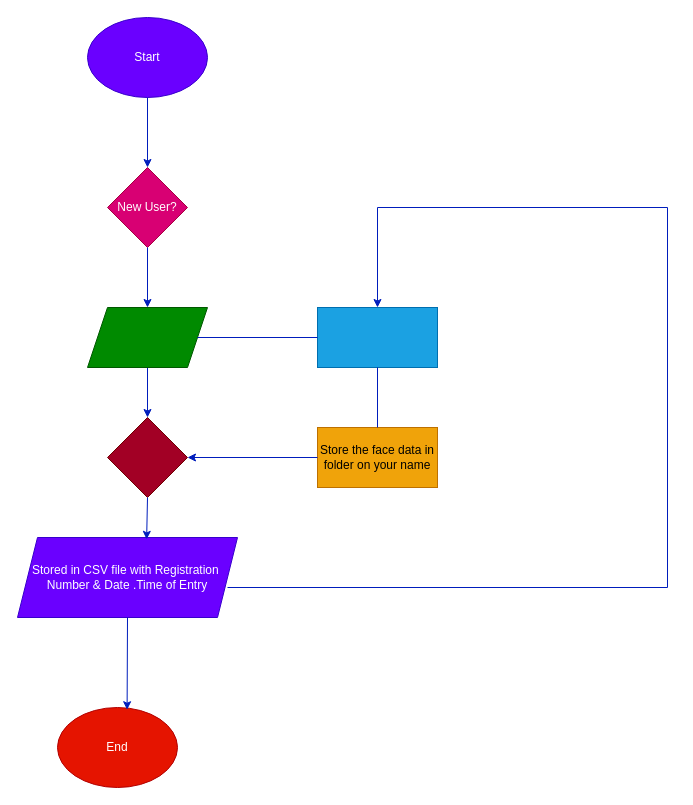
This 693x805 diagram has some shape labels left out. The box of each missing label's shape, as (x1, y1, x2, y2) in pixels:
Face Recognized: (106, 416, 188, 498)
Give your Photgraph: (316, 306, 438, 368)
Recognize the face: (86, 306, 208, 368)
